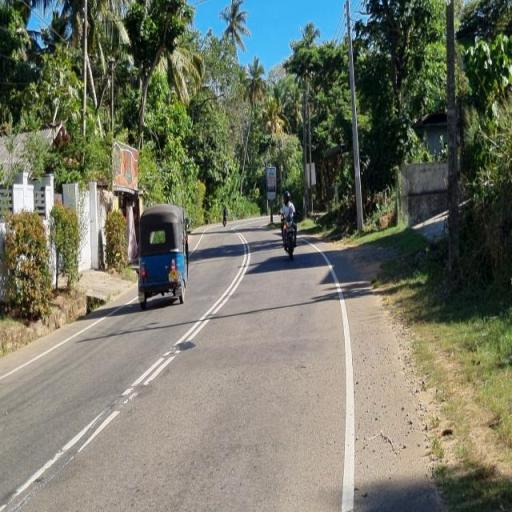double_white_line: (119, 230, 251, 404)
